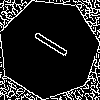I: (23, 23, 70, 60)
